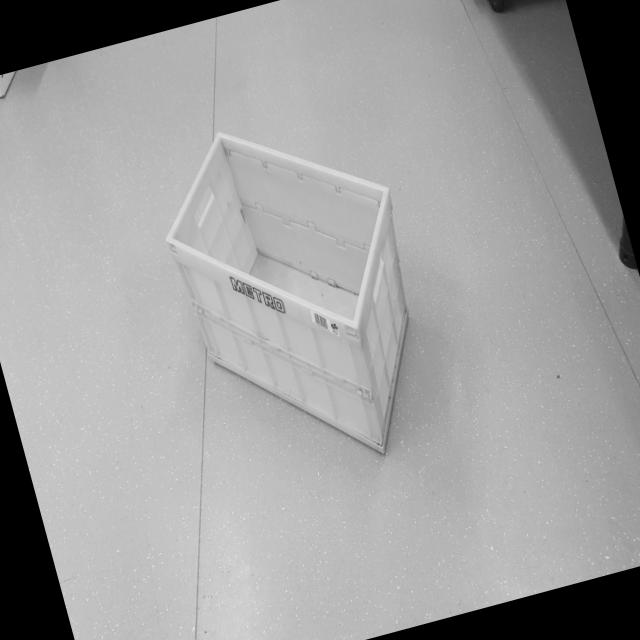box: (133, 67, 460, 516)
